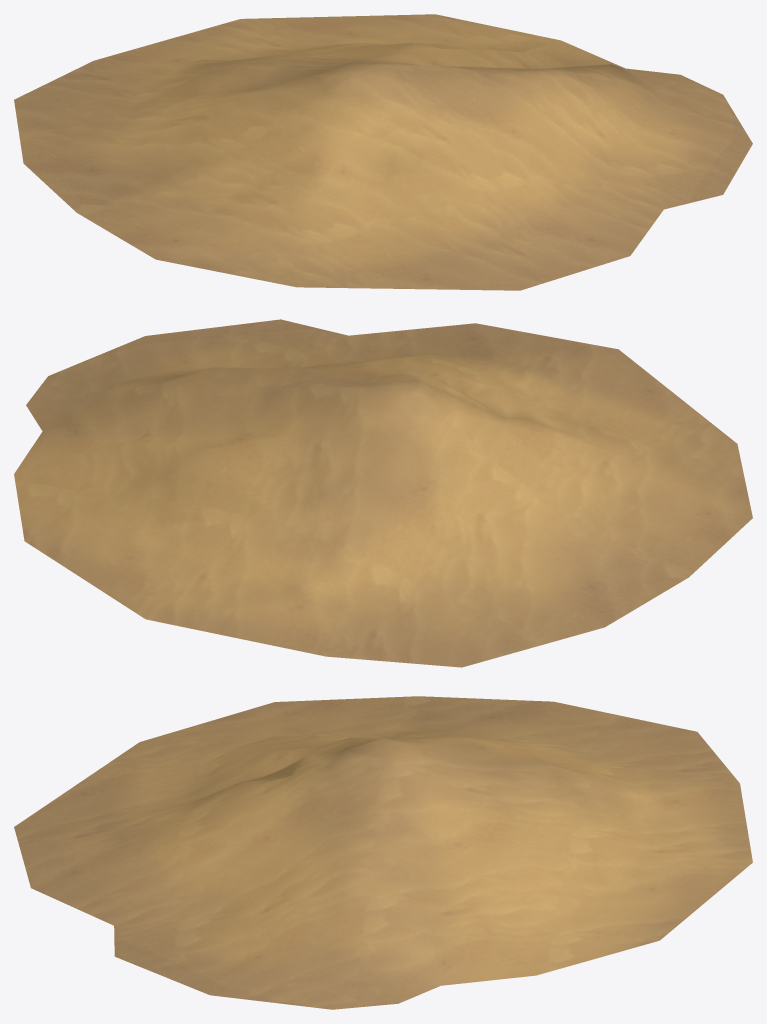
File: Area_15_9.fbx
3 renders of one model, top to bottom at view 1: azimuth 30°, elevation 25°; view 2: azimuth 150°, elevation 25°; view 3: azimuth 270°, elevation 25°, orthographic. The views are drawn at different scales.
Parts seen in each view (by area): view 1: Area_15_9; view 2: Area_15_9; view 3: Area_15_9.
Part boxes in pixels (box(x1,y1,x2,y2)): Area_15_9: box(14, 14, 752, 290); Area_15_9: box(14, 319, 752, 667); Area_15_9: box(14, 696, 752, 1009).
Bounding box in the file's own units: 4006 × 536 × 3990.
1 material, 1 textured.
